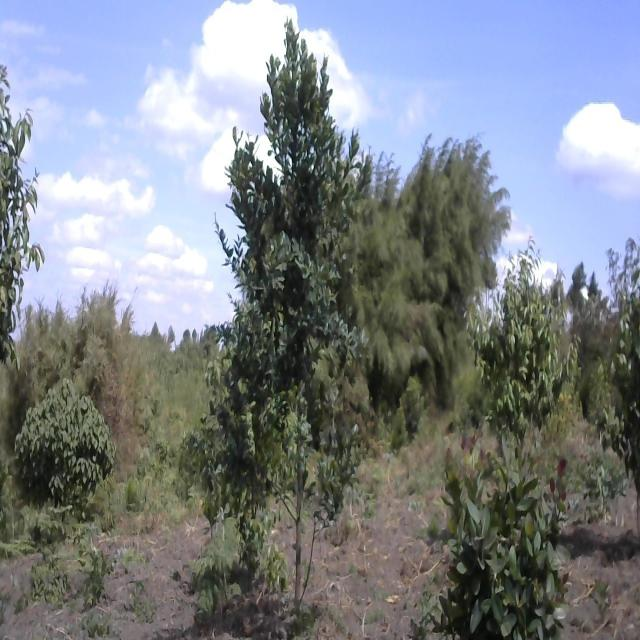Lemon Myrtle: (482, 240, 568, 448)
cedrus: (343, 139, 506, 429)
other: (180, 23, 363, 590), (427, 428, 600, 640), (20, 375, 130, 532)
